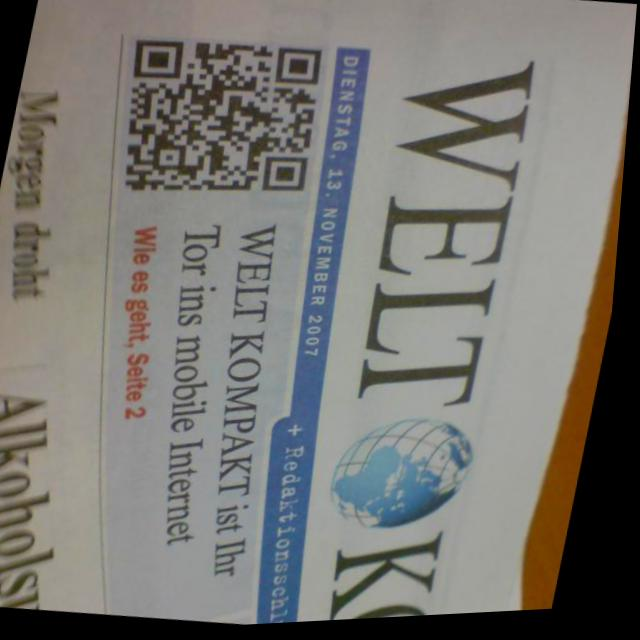qrcode: (107, 32, 334, 215)
